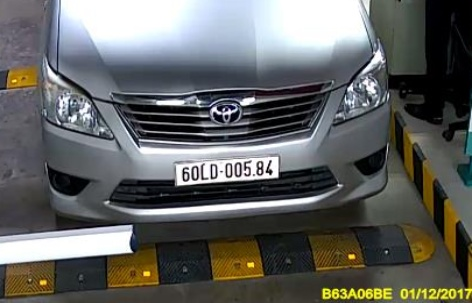plate: (172, 154, 284, 185)
